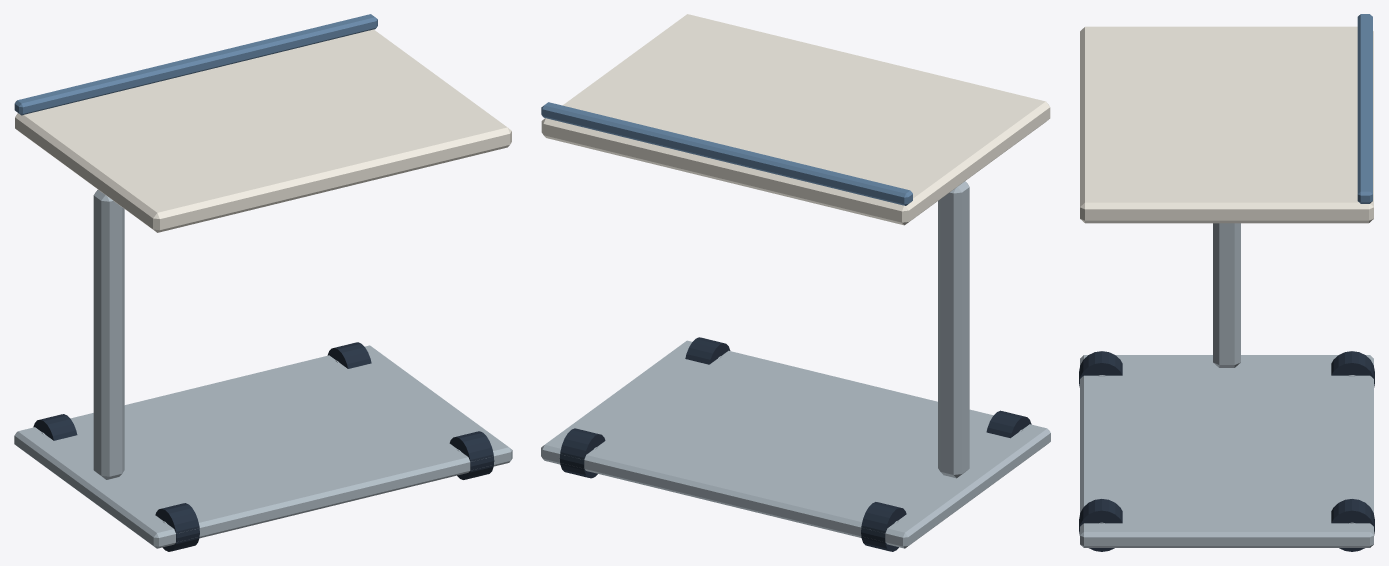
Rendered from ward_03.glb.
The picture shows the model from 3 angles, left to right: view 1: azimuth 30°, elevation 25°; view 2: azimuth 150°, elevation 25°; view 3: azimuth 270°, elevation 25°; orthographic projection. The views are drawn at different scales.
Visible parts, largest first — view 1: Tray, RollingBase, TableUpright, SpillRim, Wheel (×4); view 2: Tray, RollingBase, TableUpright, SpillRim, Wheel (×4); view 3: Tray, RollingBase, TableUpright, Wheel (×4), SpillRim.
Boxes of the visible parts, x1,y1,x2,y2 form: Tray: (15, 29, 511, 232); RollingBase: (14, 345, 512, 548); TableUpright: (93, 190, 124, 479); SpillRim: (14, 14, 377, 115); Wheel (×4): (33, 342, 494, 551); Tray: (541, 14, 1050, 225); RollingBase: (541, 340, 1050, 548); TableUpright: (938, 181, 969, 478); SpillRim: (541, 102, 912, 205); Wheel (×4): (559, 337, 1031, 551); Tray: (1080, 26, 1373, 223); RollingBase: (1080, 355, 1373, 547); TableUpright: (1213, 223, 1240, 367); Wheel (×4): (1079, 351, 1374, 551); SpillRim: (1357, 14, 1372, 203).
Size of the model in its own units: 0.84 by 0.8035 by 0.583.
